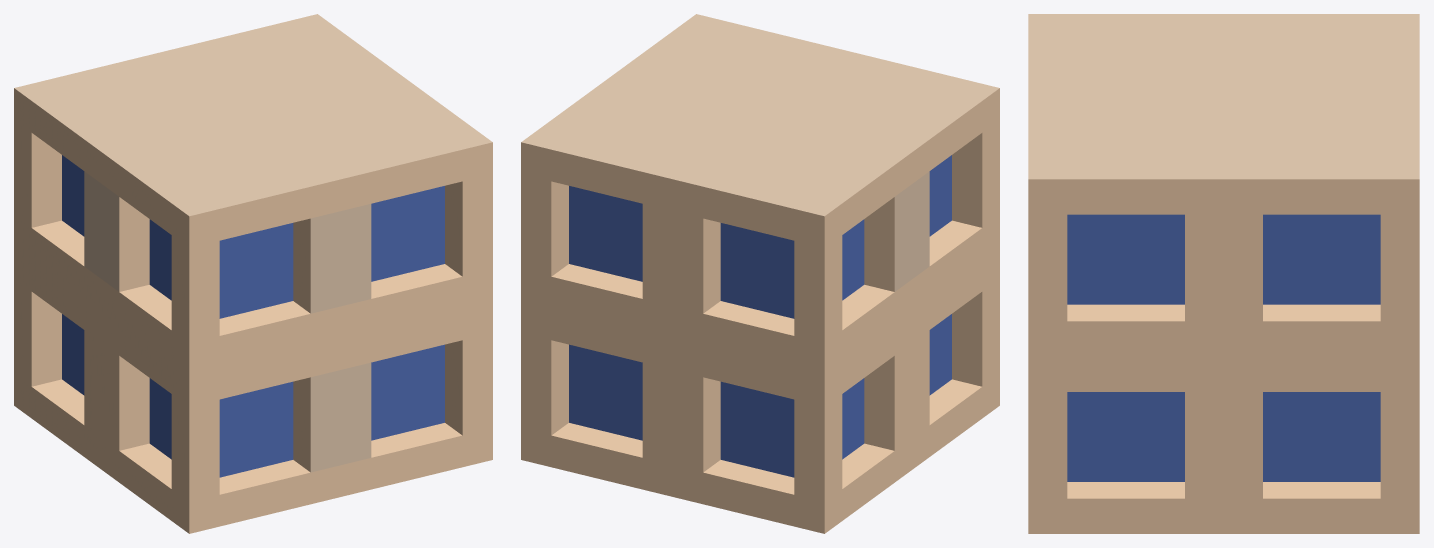
Rendered from firstModel(red).fbx.
3 views of the same model, side by side, from view 1: azimuth 30°, elevation 25°; view 2: azimuth 150°, elevation 25°; view 3: azimuth 270°, elevation 25° (orthographic). The views are drawn at different scales.
Parts seen in each view (by area): view 1: Box; view 2: Box; view 3: Box.
Part boxes in pixels (bbox=[...]): Box: bbox=[14, 14, 492, 533]; Box: bbox=[521, 14, 999, 533]; Box: bbox=[1028, 14, 1419, 533].
Bounding box in the file's own units: 10 × 10 × 10.
Materials: 1 (1 with a texture image).
